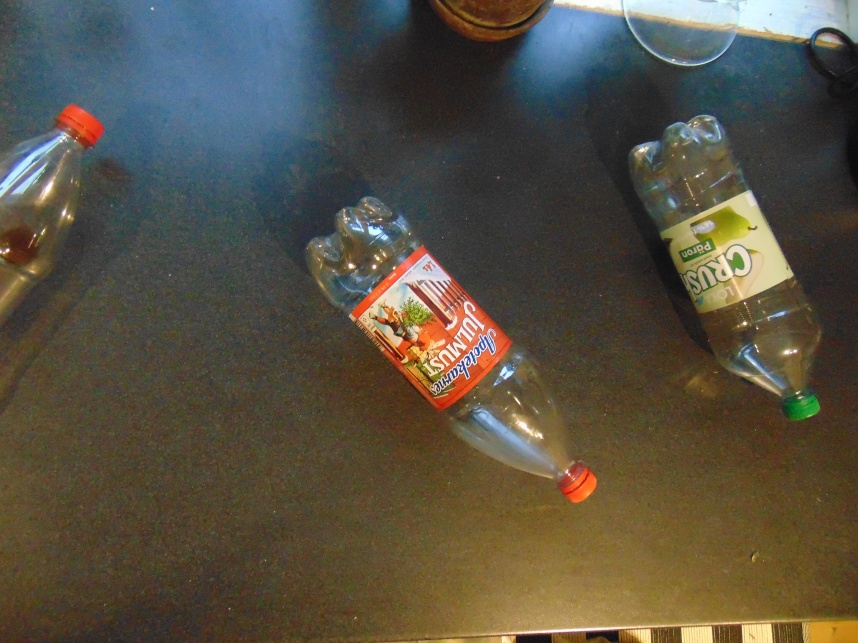glass_bottle: (623, 1, 740, 64)
plastic_bottle: (302, 193, 600, 509), (627, 113, 825, 417), (1, 103, 102, 332)
